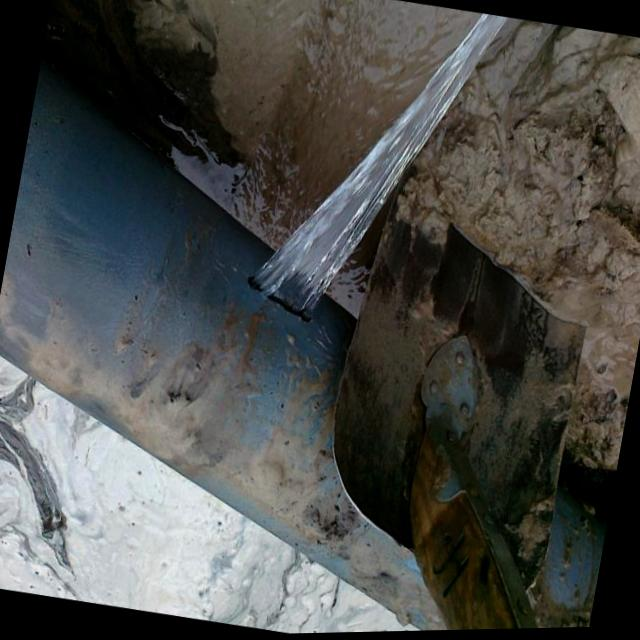leak: (249, 13, 507, 318), (269, 293, 310, 320), (249, 276, 261, 288)
